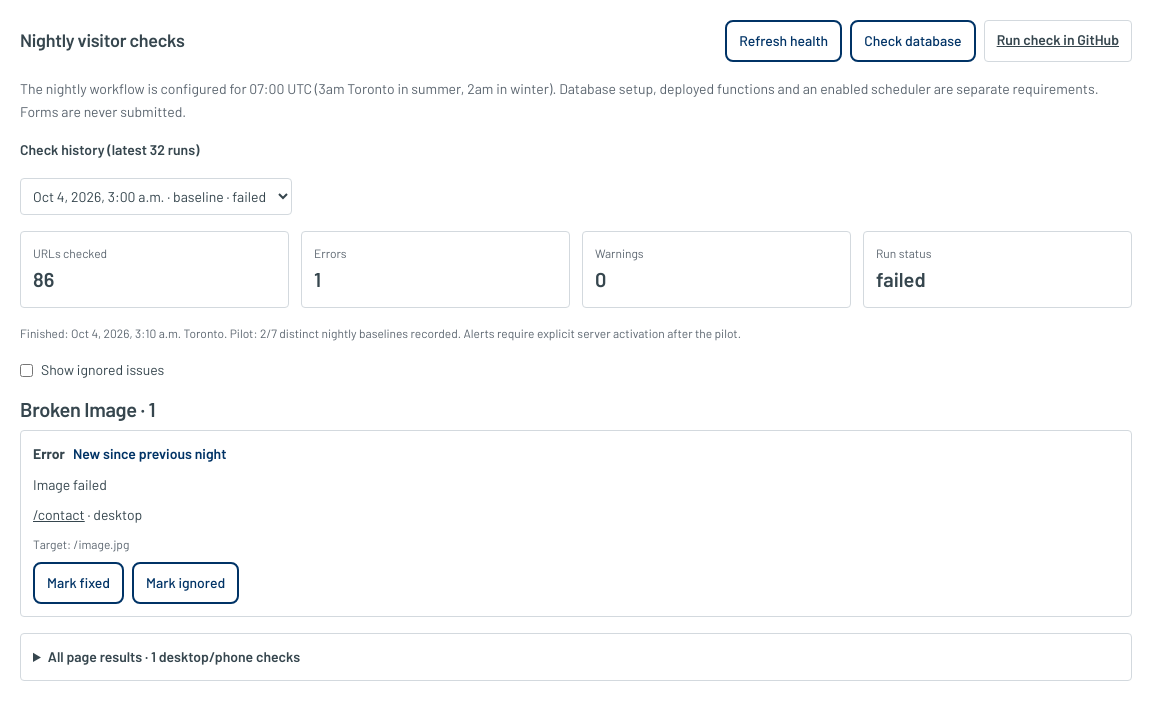
Test: honest Site Health workspace › highlights new findings and retains the reason after a failed save
expect the text "New since previous night" is shown: met, box [73,443,226,466]
Click the button "Mark ignored". click: (186, 583)
box: [132,562,239,604]
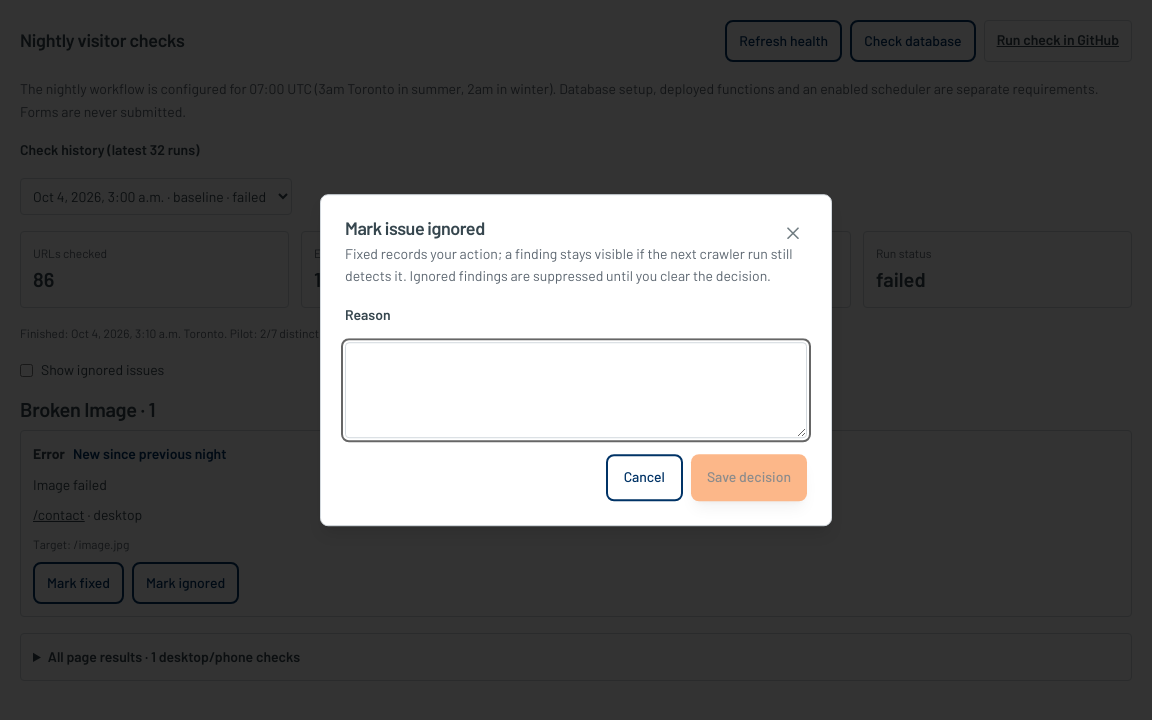
Type "Known issue" into the text box labelled "Reason". click: (576, 390)
box: [345,342,807,438]
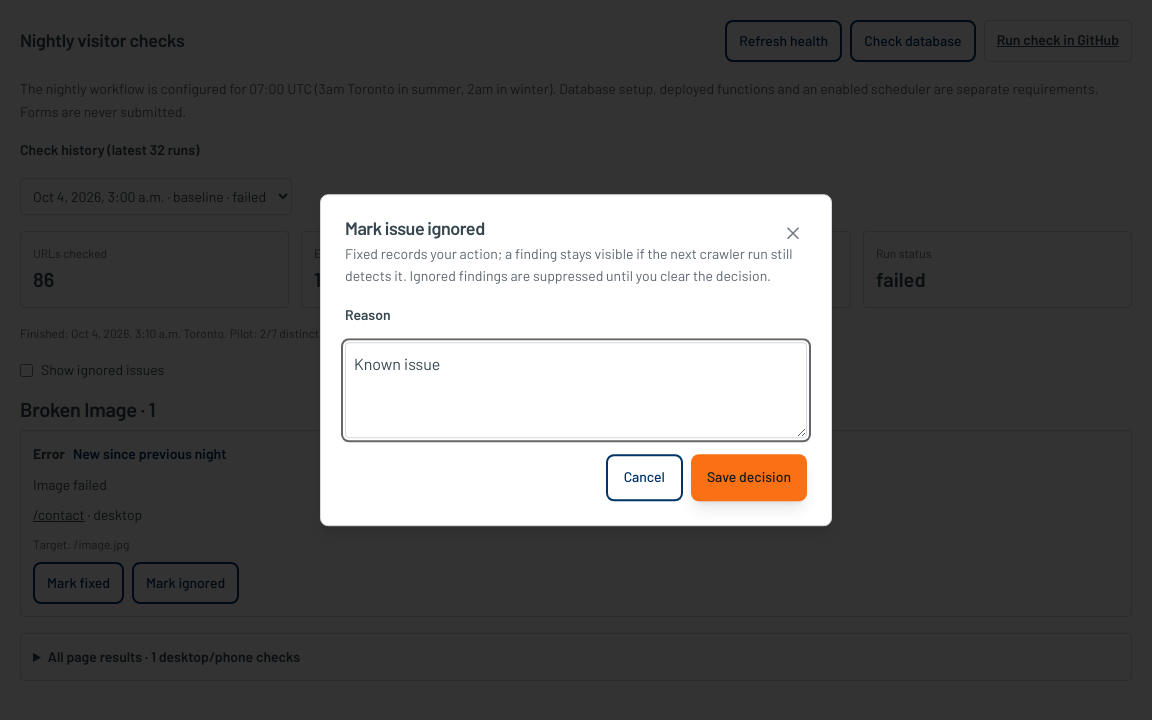
Click the button "Save decision". click: (749, 478)
box: [691,454,807,501]
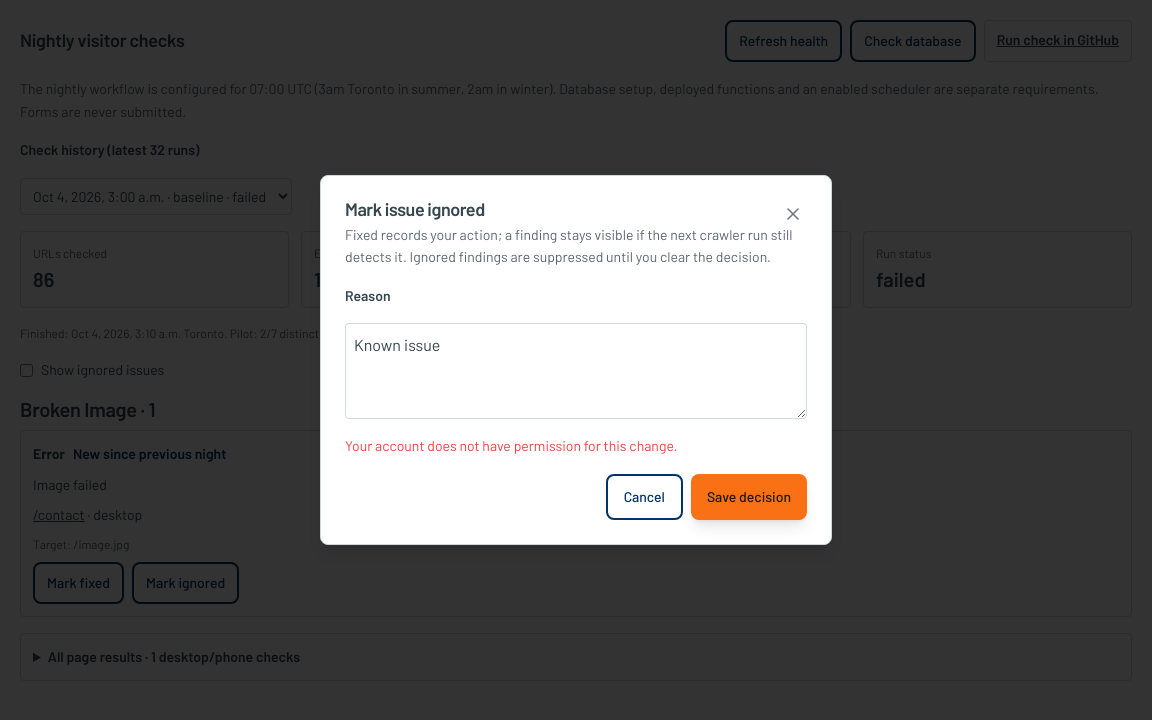
expect the text "Your account does not have permission for this change." is shown: met, box [345,437,678,454]
